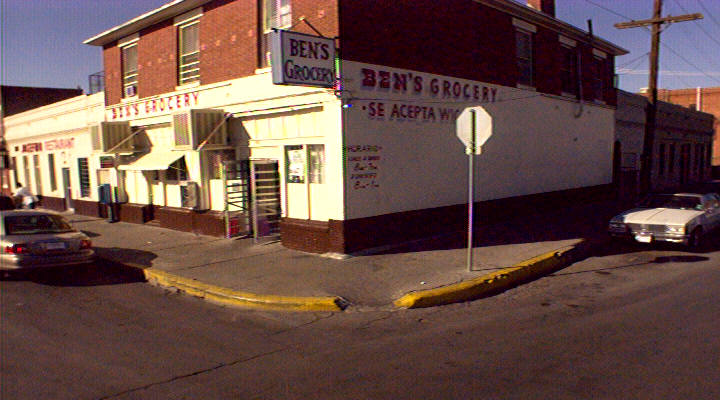Ramp: (307, 258, 425, 321)
